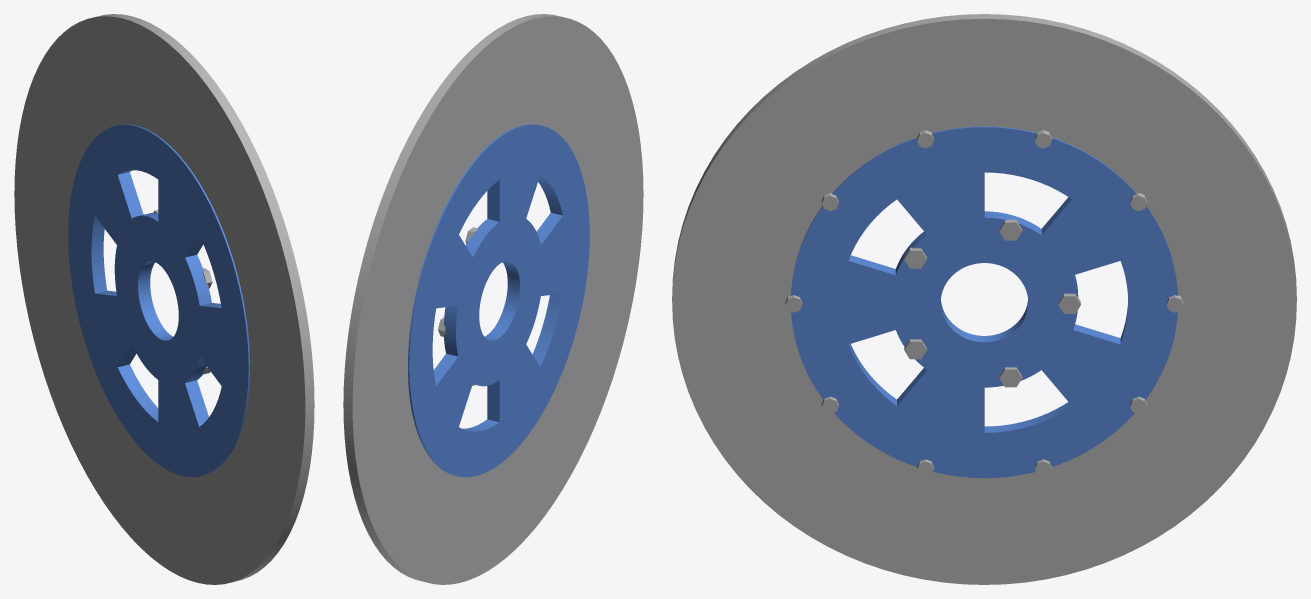
The model's file is floating_330_race.glb.
3 views of the same model, side by side, from view 1: azimuth 30°, elevation 25°; view 2: azimuth 150°, elevation 25°; view 3: azimuth 270°, elevation 25° (orthographic). The views are drawn at different scales.
Visible parts, largest first — view 1: lod0; view 2: lod0; view 3: lod0.
Part boxes in pixels (<box>): lod0: <box>14,14,314,584</box>; lod0: <box>343,14,643,584</box>; lod0: <box>672,14,1296,584</box>.
Size of what is drawn, in the model's own units: 0.011 by 0.33 by 0.33.
